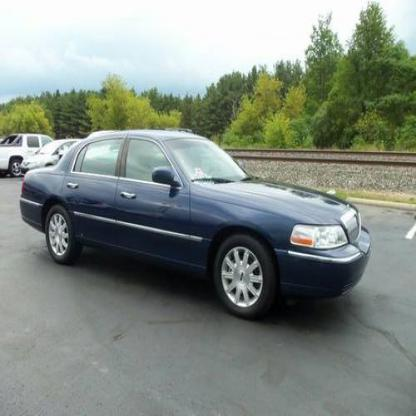Vehicle: (19, 126, 374, 327)
